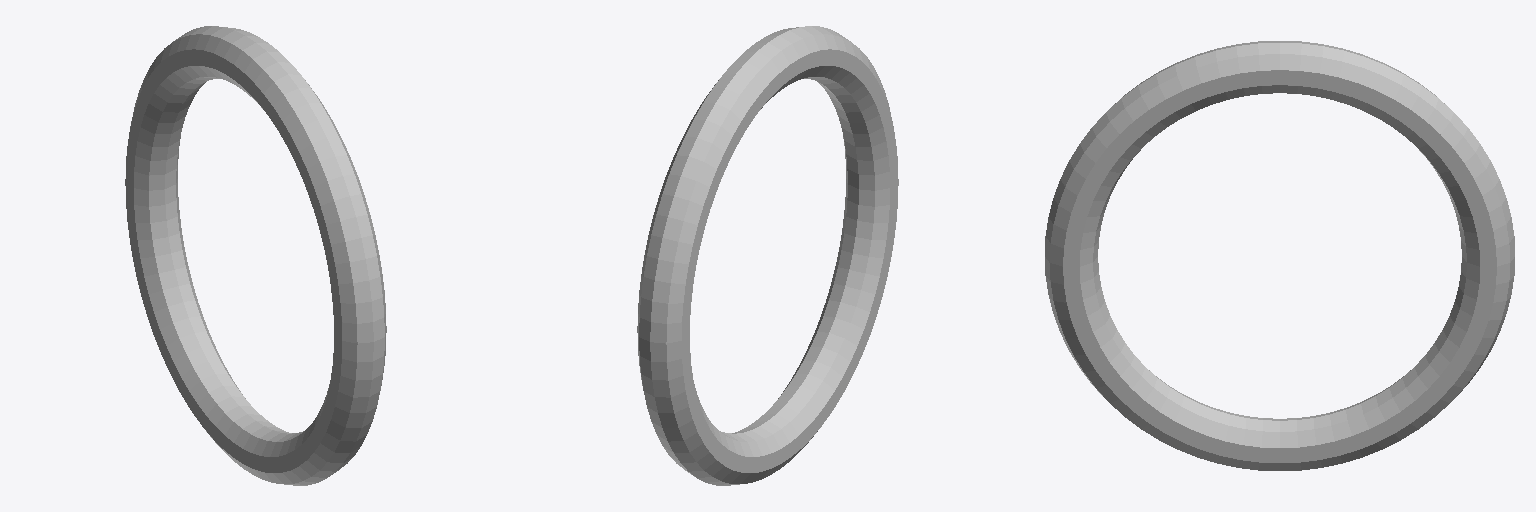
File: ring.obj
3 renders of one model, left to right at view 1: azimuth 30°, elevation 25°; view 2: azimuth 150°, elevation 25°; view 3: azimuth 270°, elevation 25°, orthographic.
Parts seen in each view (by area): view 1: Torus.001; view 2: Torus.001; view 3: Torus.001.
Part boxes in pixels (x1,y1,x2,y2): Torus.001: (125, 26, 386, 485); Torus.001: (637, 26, 898, 485); Torus.001: (1045, 41, 1514, 470).
Bounding box in the file's own units: 0.6848 × 6.32 × 6.32.